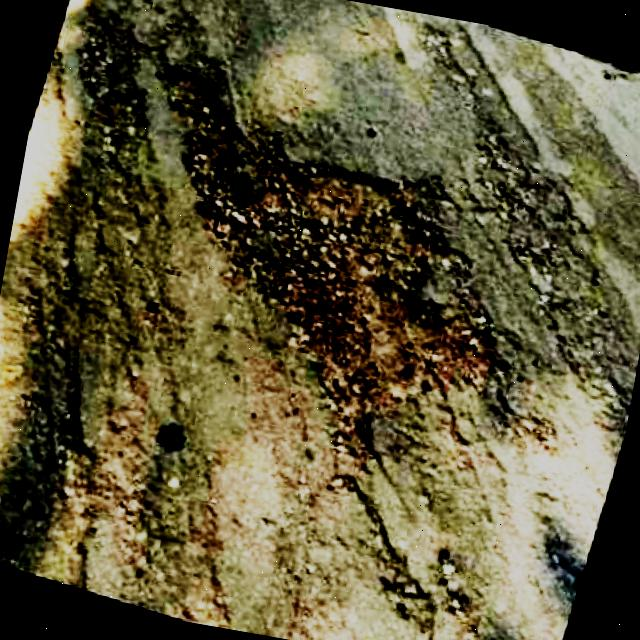pothole: (109, 61, 542, 418)
